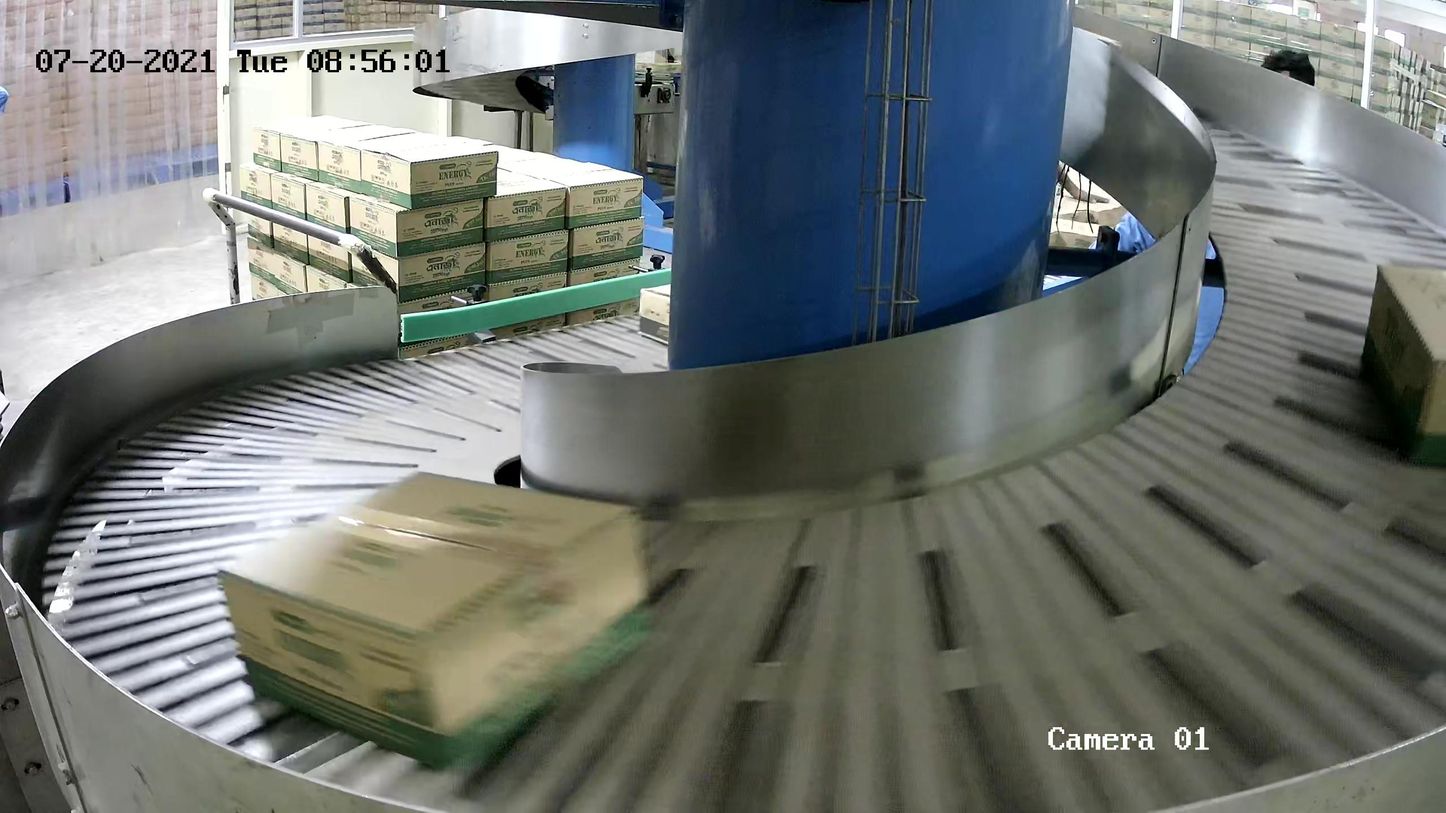Box: (219, 469, 662, 771), (1358, 263, 1446, 479)
